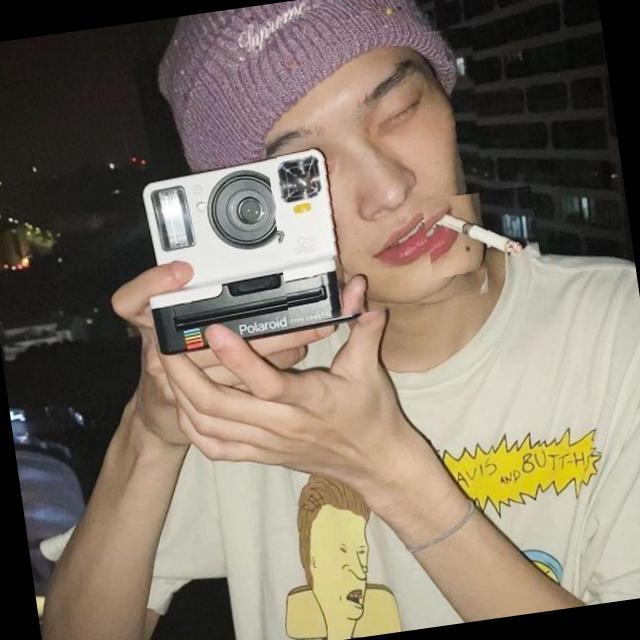cigarette: (422, 185, 542, 280)
